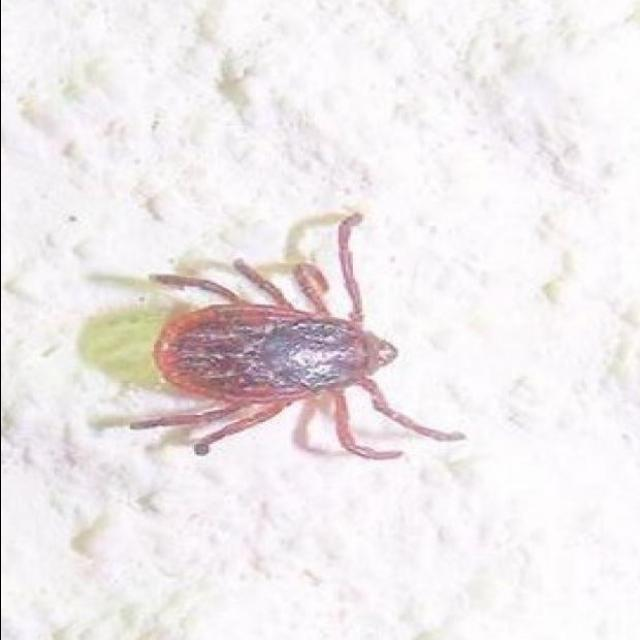Rhipicephalus Sanguineus-F: (129, 212, 465, 462)
